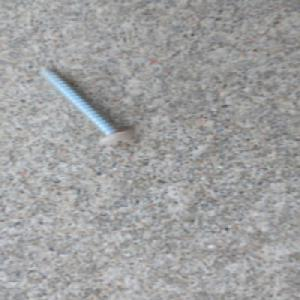Screw: (35, 62, 137, 147)
